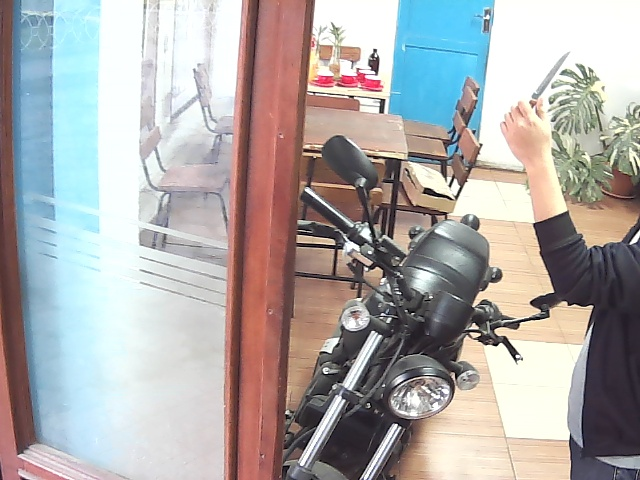cuchillo: (492, 43, 577, 164)
